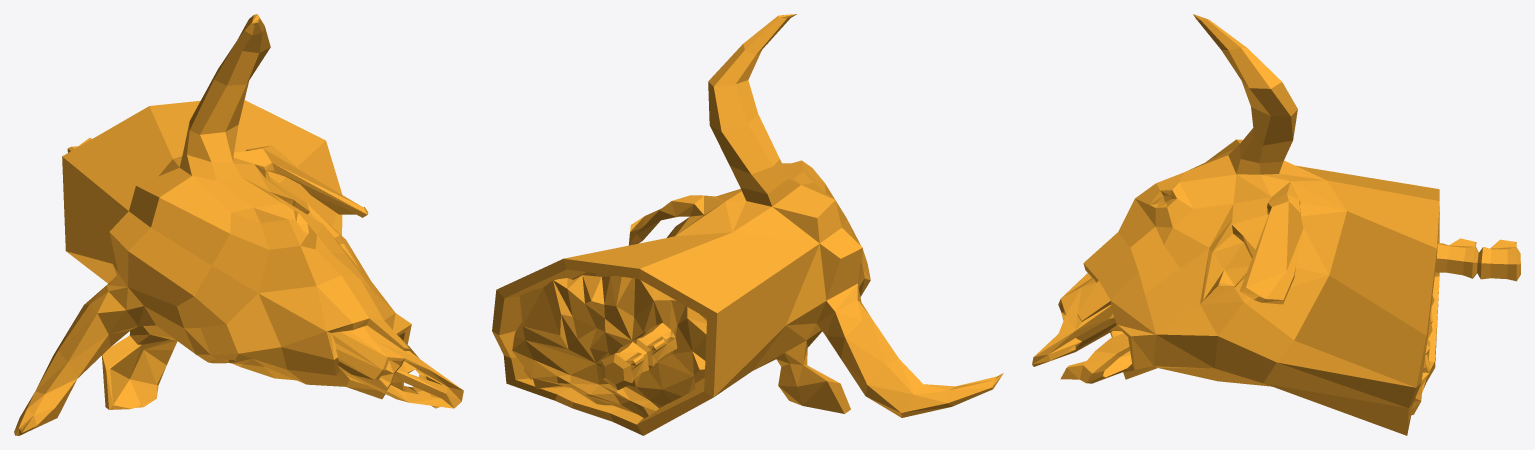
File: SM_Cow_Dead_Head_B.fbx
The picture shows the model from 3 angles, left to right: view 1: azimuth 30°, elevation 25°; view 2: azimuth 150°, elevation 25°; view 3: azimuth 270°, elevation 25°; orthographic projection. The views are drawn at different scales.
Visible parts, largest first — view 1: cow-dead-head-b; view 2: cow-dead-head-b; view 3: cow-dead-head-b.
Part boxes in pixels (<box>): cow-dead-head-b: <box>14,14,463,435</box>; cow-dead-head-b: <box>492,14,1003,435</box>; cow-dead-head-b: <box>1032,14,1520,435</box>.
Bounding box in the file's own units: 0.8836 × 0.7412 × 0.9426.
